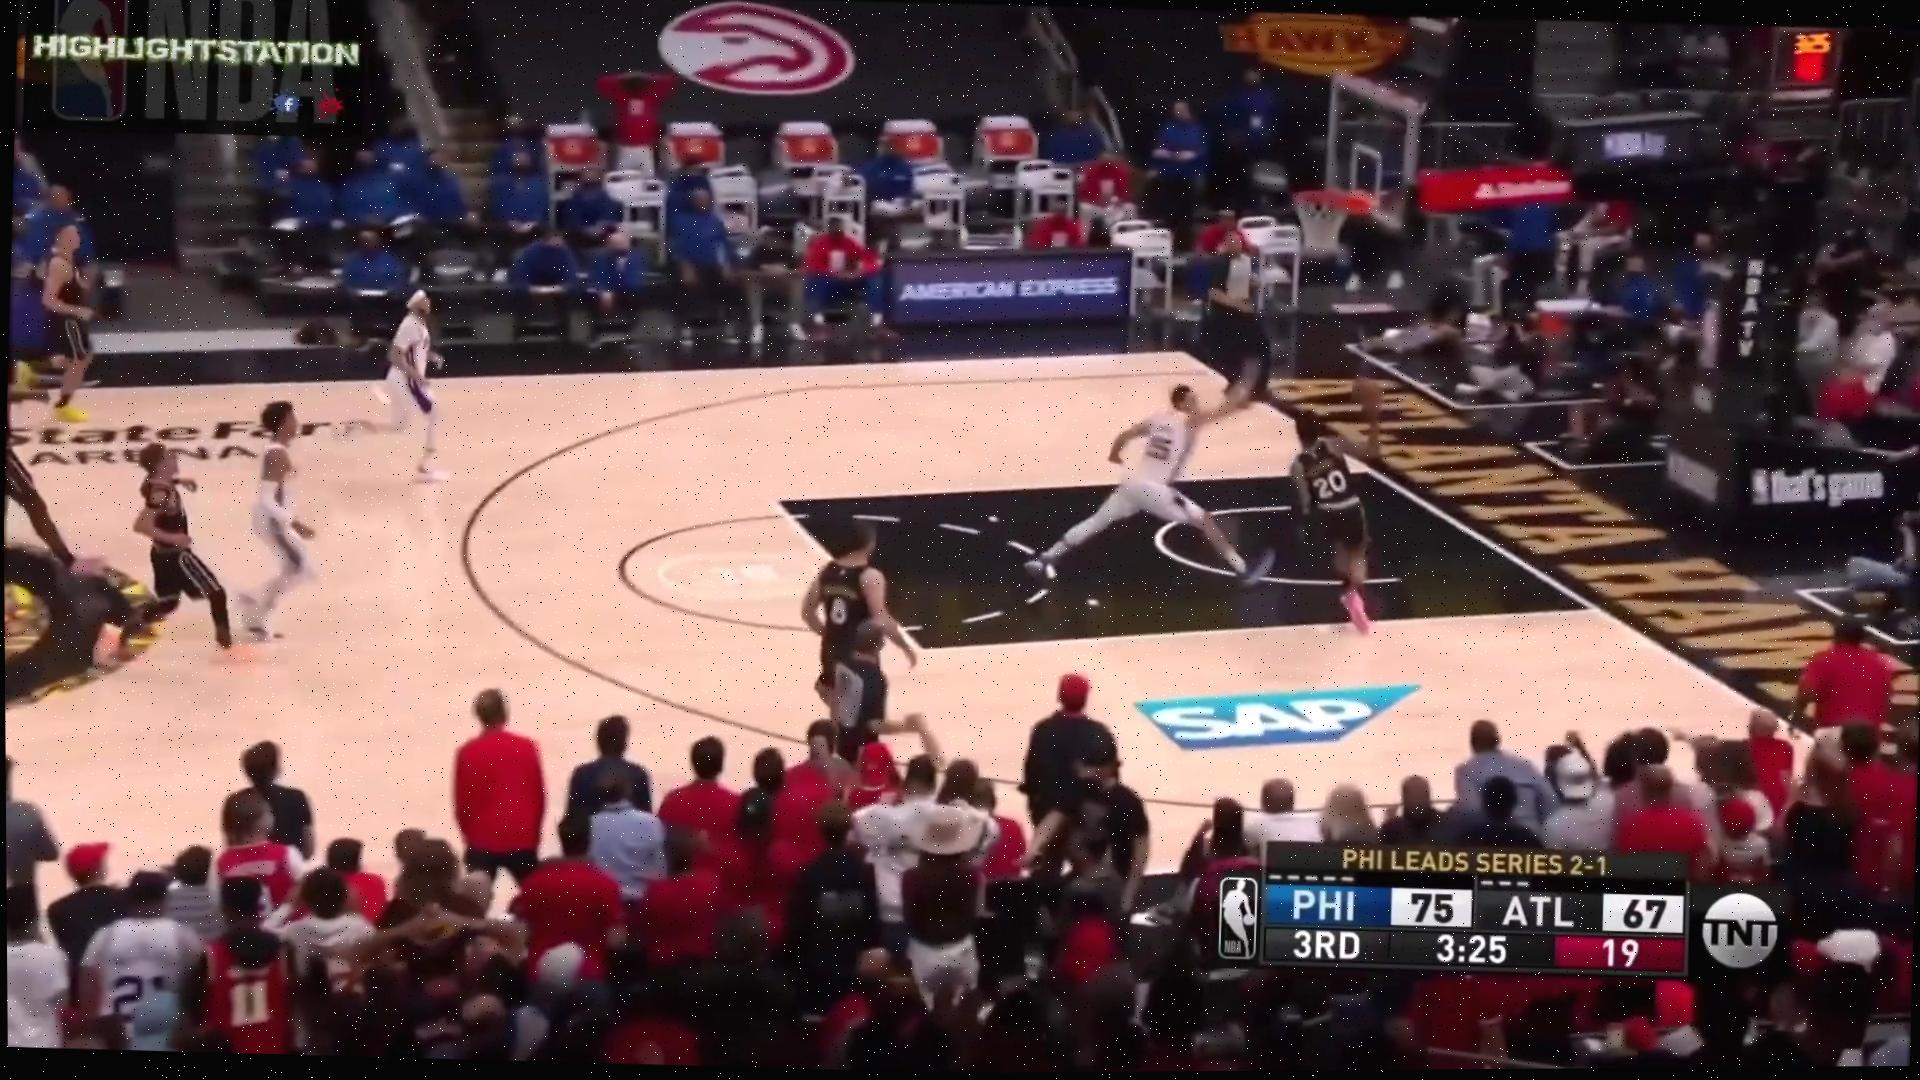no_foul: (113, 387, 341, 679)
